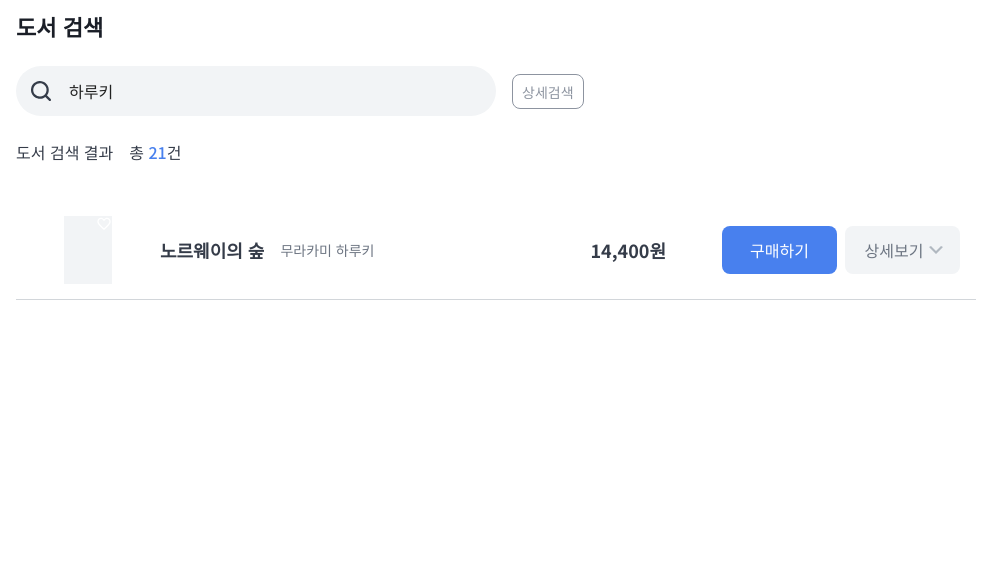
Test: SearchPage › 상세보기를 누르면 펼쳐져 책 소개와 원가/할인가를 보여준다
The image size is (993, 561).
Click the button "상세보기". click: {"x": 902, "y": 250}
box: x1=845 y1=226 x2=960 y2=274
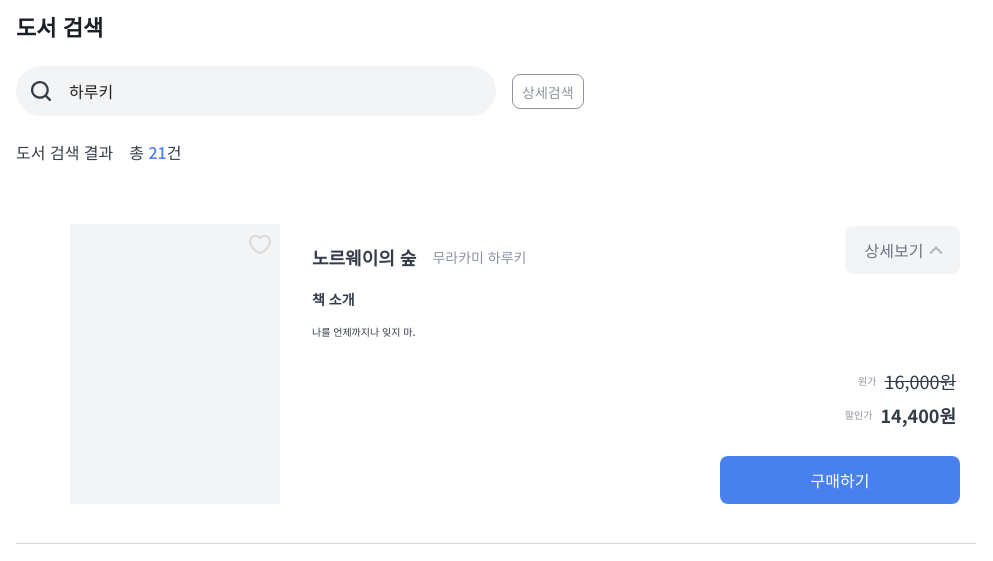
expect the heading "책 소개" is shown: met, box x1=312 y1=289 x2=355 y2=309
expect the text "16,000원" is shown: met, box x1=884 y1=368 x2=956 y2=394
expect the button "상세보기" is expanded: met, box x1=845 y1=226 x2=960 y2=274
